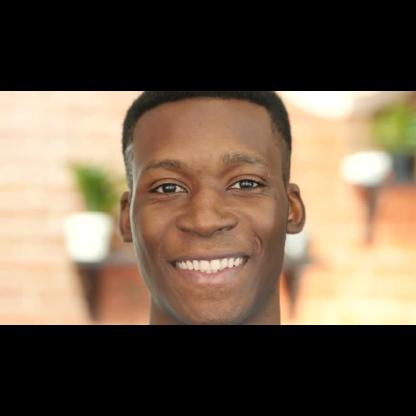Male: (119, 99, 306, 321)
